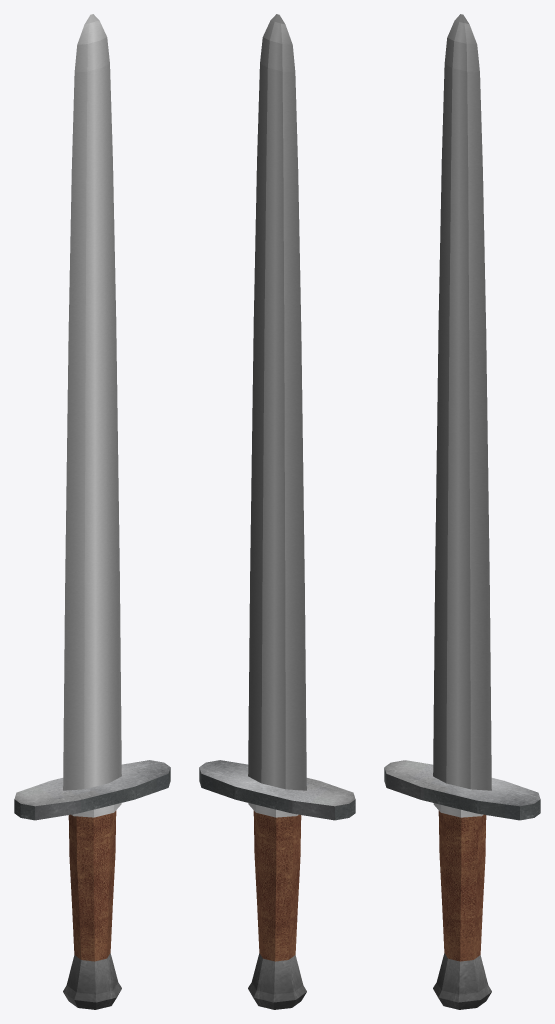
File: Sword.fbx
3 views of the same model, side by side, from view 1: azimuth 30°, elevation 25°; view 2: azimuth 150°, elevation 25°; view 3: azimuth 330°, elevation 25° (orthographic).
Visible parts, largest first — view 1: Cube; view 2: Cube; view 3: Cube.
Part boxes in pixels (x1,y1,x2,y2): Cube: (14, 14, 170, 1009); Cube: (199, 14, 355, 1009); Cube: (384, 14, 540, 1009).
Size of the model in its own units: 164 by 1028 by 52.32.
